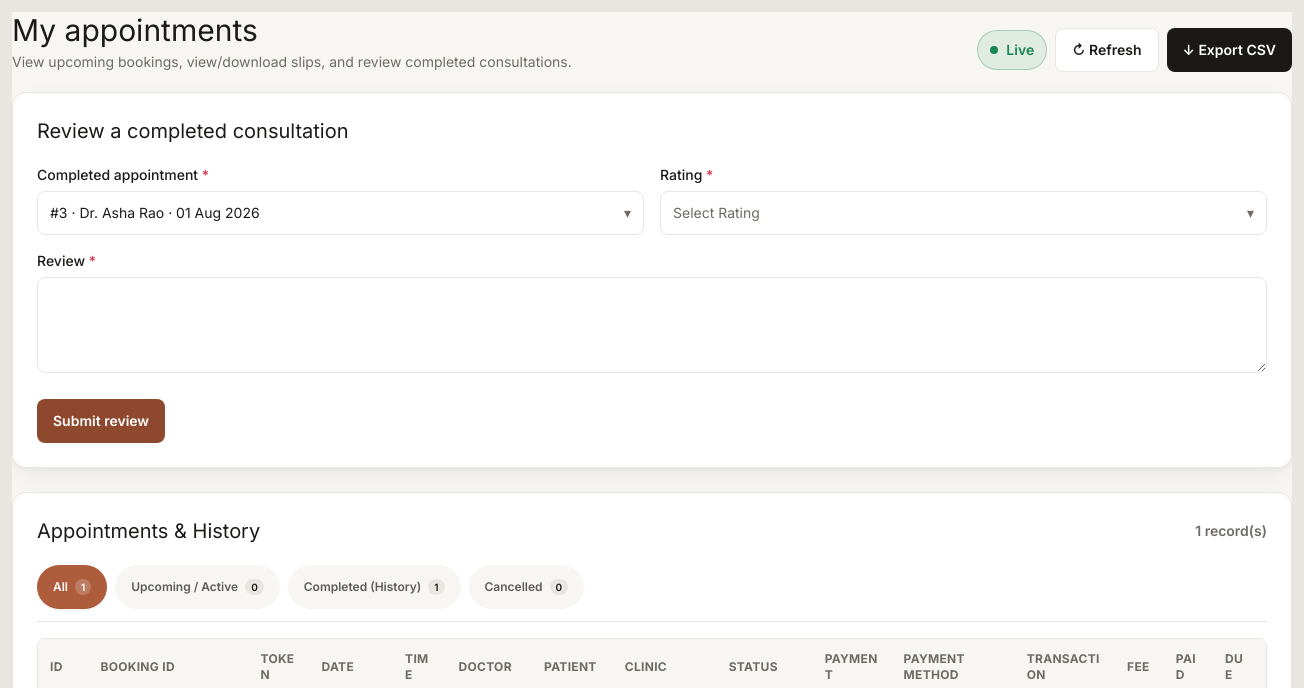
Test: PatientAppointments › shows an inline error and keeps the existing records visible when refresh fails
Click the button "↻ Refresh". click: [1107, 50]
box: [1055, 28, 1159, 72]
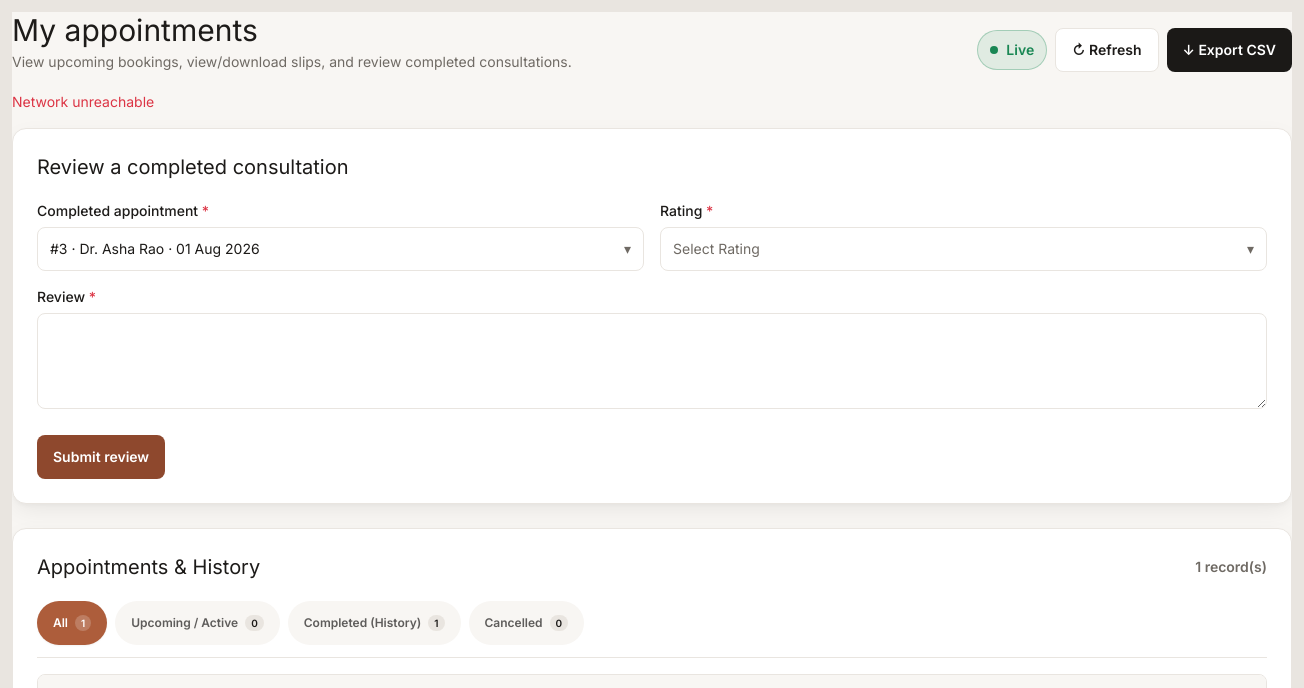
Check: the text "1 record(s)" is shown, box [1195, 557, 1267, 577]
Check: the text "Network unreachable" is shown, box [12, 93, 154, 110]
